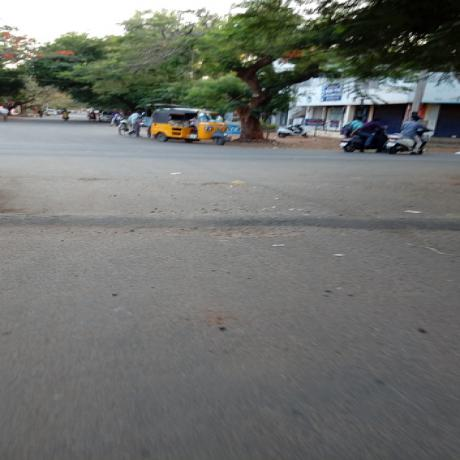Speed Bump: (1, 210, 459, 235)
